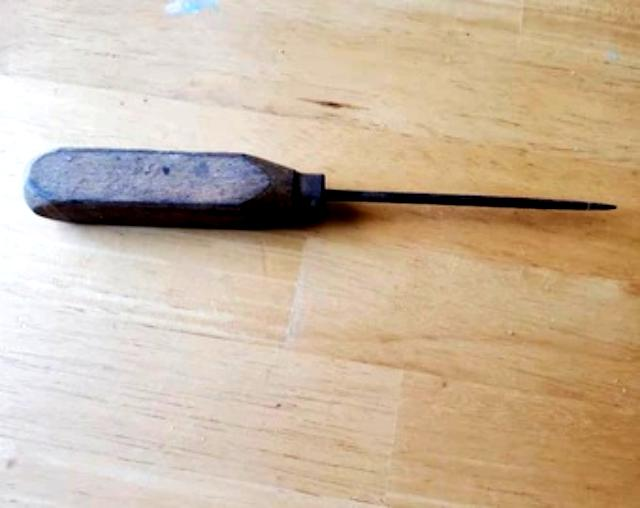ice pick: (23, 149, 617, 225)
